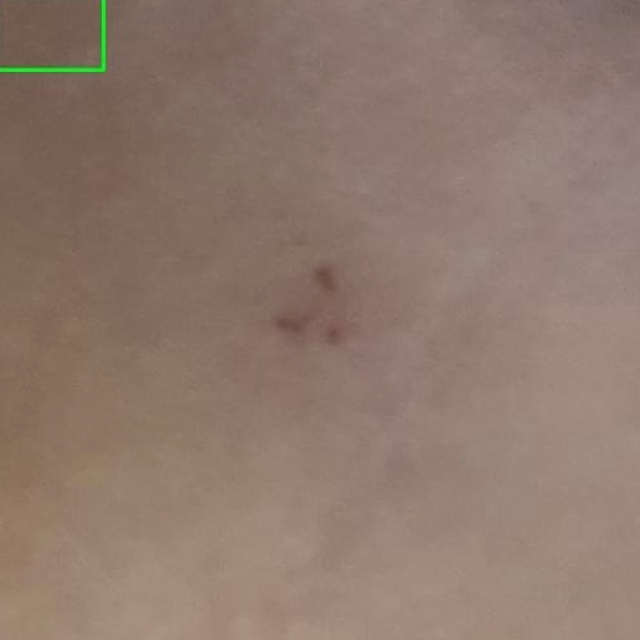Atopic Dermatitis: (0, 0, 103, 70)
